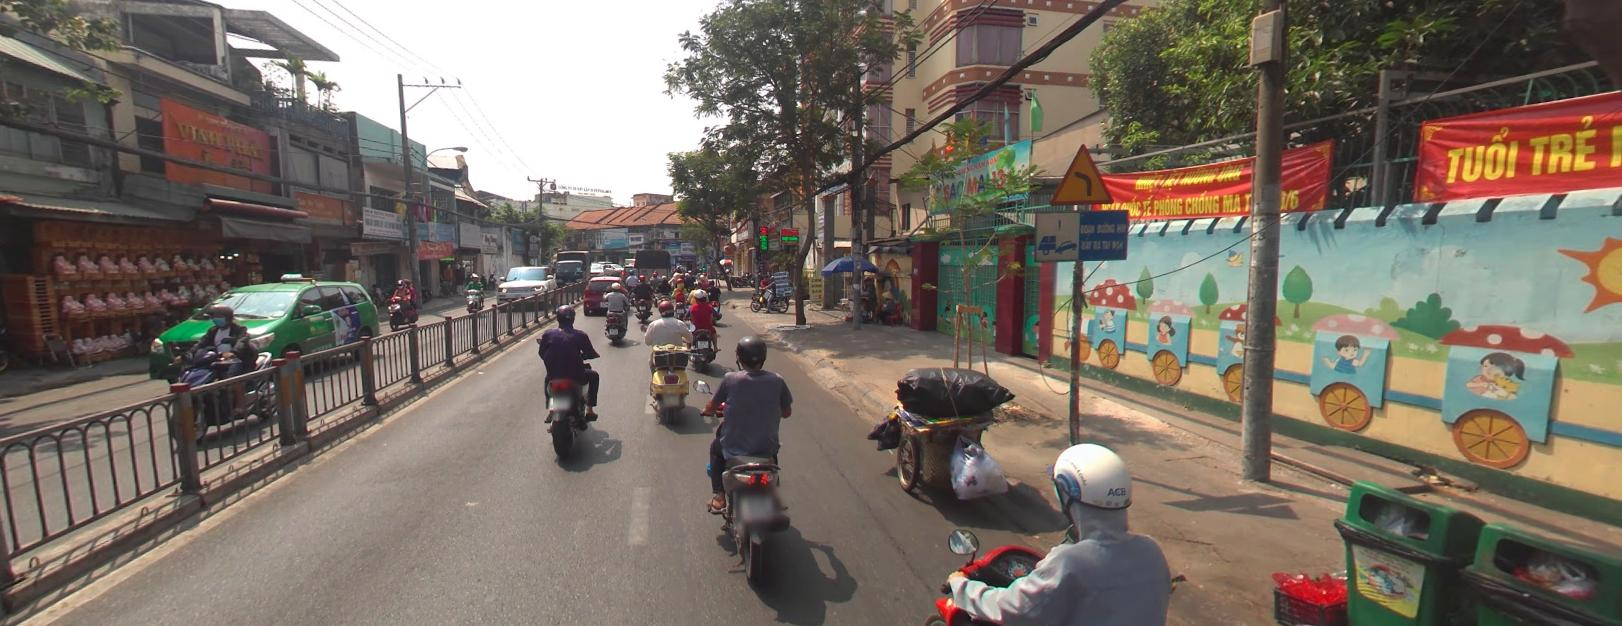Nguy hiem: (1048, 141, 1113, 205)
